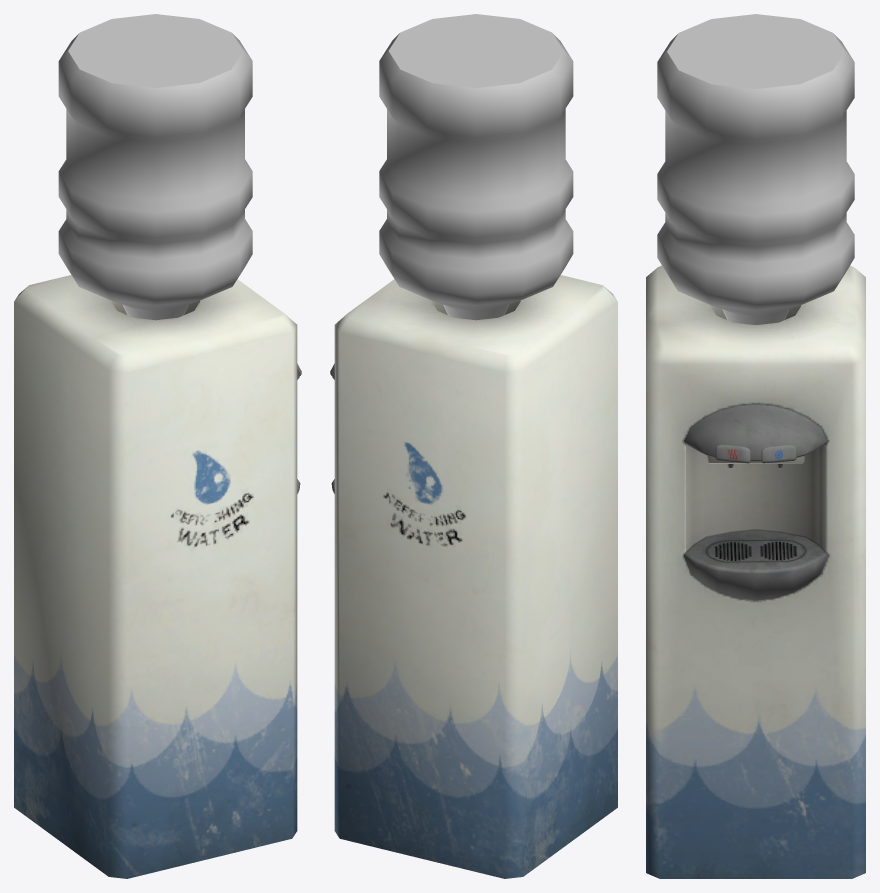
File: water_cooler_less_cubemap.dae
3 renders of one model, left to right at view 1: azimuth 30°, elevation 25°; view 2: azimuth 150°, elevation 25°; view 3: azimuth 270°, elevation 25°, orthographic.
Visible parts, largest first — view 1: polySurface5, pCylinder1; view 2: polySurface5, pCylinder1; view 3: polySurface5, pCylinder1.
Boxes of the visible parts, box(x1,y1,x2,y2) form: polySurface5: box(14, 275, 301, 878); pCylinder1: box(58, 14, 252, 320); polySurface5: box(330, 275, 617, 878); pCylinder1: box(379, 14, 573, 320); polySurface5: box(646, 265, 865, 878); pCylinder1: box(657, 14, 854, 324).
Bounding box in the file's own units: 0.6902 × 2.23 × 0.5675.
